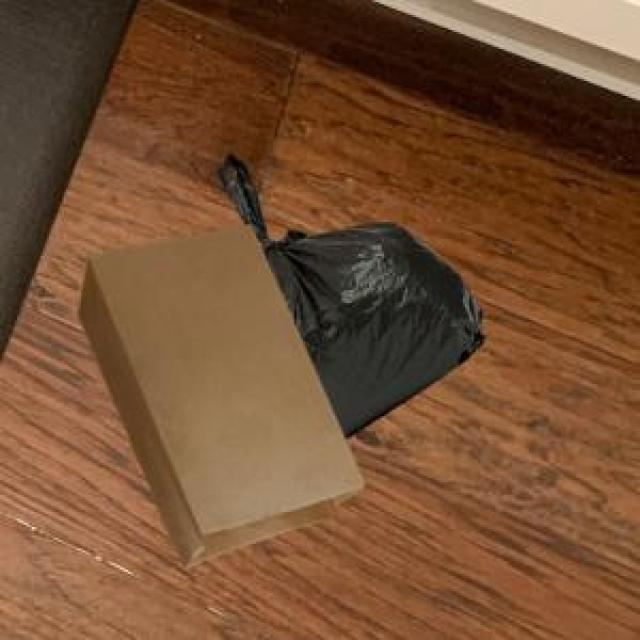miscellaneous trash: (213, 149, 480, 435)
paper: (75, 222, 361, 563)
